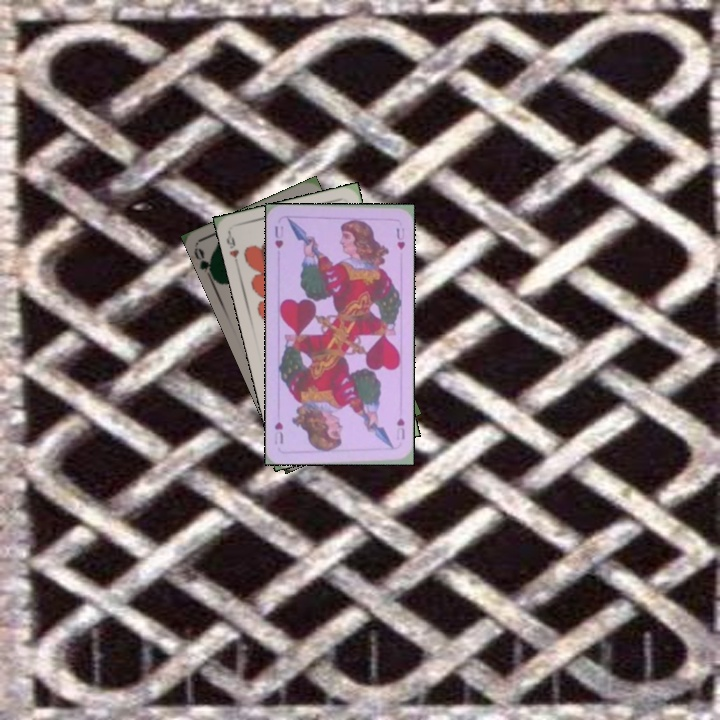GO: (190, 244, 217, 283)
H9: (222, 229, 242, 269)
HU: (271, 222, 286, 251), (392, 414, 407, 442)
